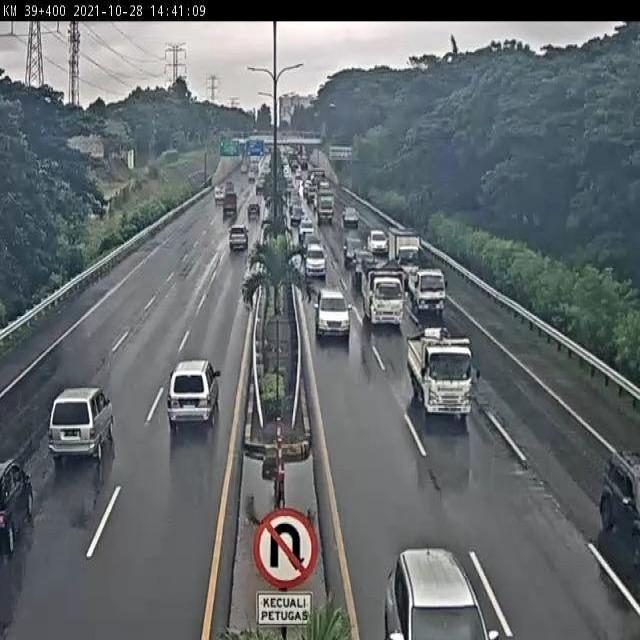car: (314, 287, 350, 337)
mid truck: (47, 388, 114, 460), (167, 358, 220, 431)
truck-m-: (405, 325, 474, 419), (361, 265, 402, 324)
truck-s-: (407, 264, 447, 317)
